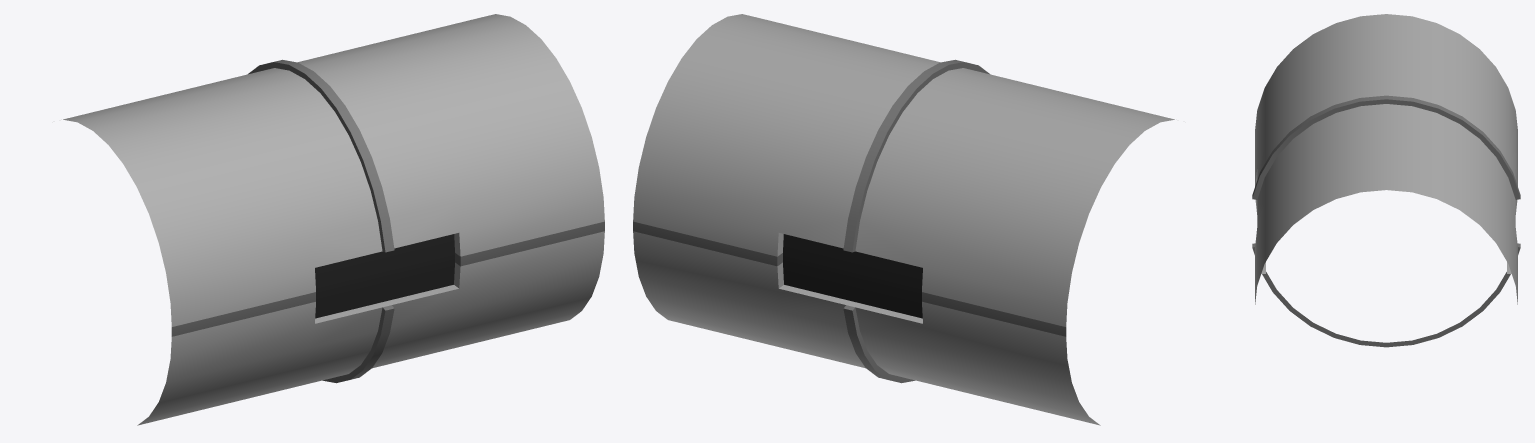
Rendered from connector.glb.
The picture shows the model from 3 angles, left to right: view 1: azimuth 30°, elevation 25°; view 2: azimuth 150°, elevation 25°; view 3: azimuth 270°, elevation 25°; orthographic projection. The views are drawn at different scales.
Parts seen in each view (by area): view 1: Connector; view 2: Connector; view 3: Connector.
Boxes of the visible parts, x1,y1,x2,y2 form: Connector: (63,14,604,425); Connector: (633,14,1174,425); Connector: (1252,14,1520,347).
Bounding box in the file's own units: 3.37 × 2.21 × 2.17.
Materials: 1 (1 with a texture image).
